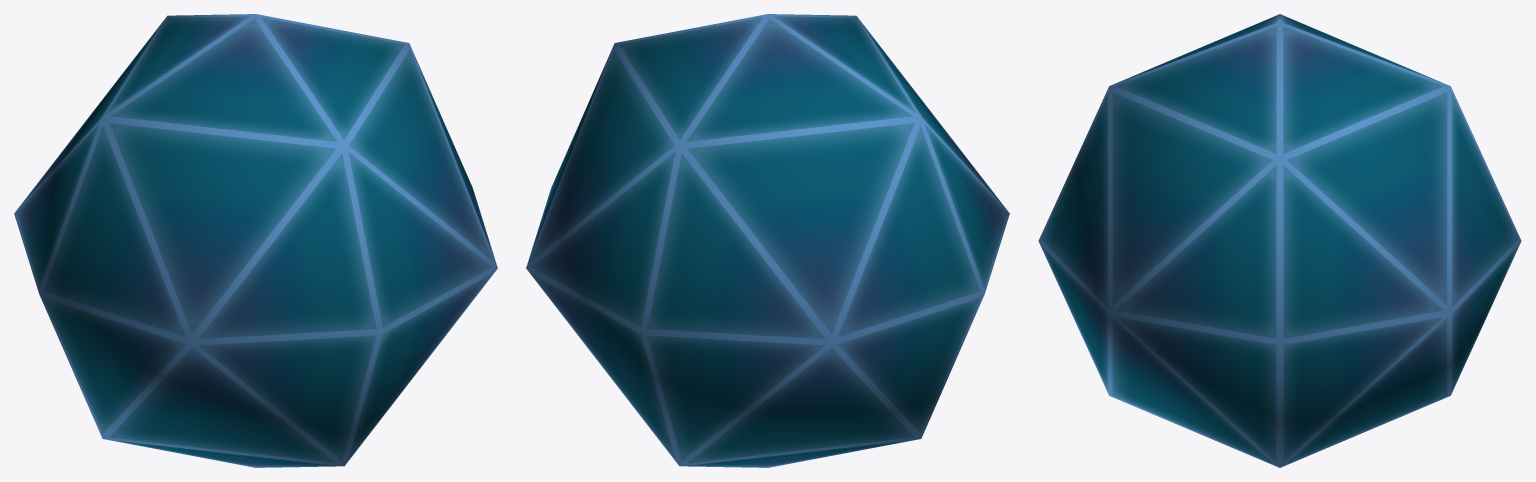
File: ShieldFx.FBX
3 views of the same model, side by side, from view 1: azimuth 30°, elevation 25°; view 2: azimuth 150°, elevation 25°; view 3: azimuth 270°, elevation 25° (orthographic). The views are drawn at different scales.
Parts seen in each view (by area): view 1: GeoSphere004; view 2: GeoSphere004; view 3: GeoSphere004.
Boxes of the visible parts, left/top/right/bottom form: GeoSphere004: left=14, top=14, right=497, bottom=467; GeoSphere004: left=526, top=14, right=1009, bottom=467; GeoSphere004: left=1038, top=14, right=1521, bottom=467.
Bounding box in the file's own units: 73.24 × 73.24 × 73.24.
